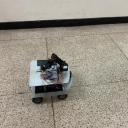cart: (28, 58, 72, 104)
